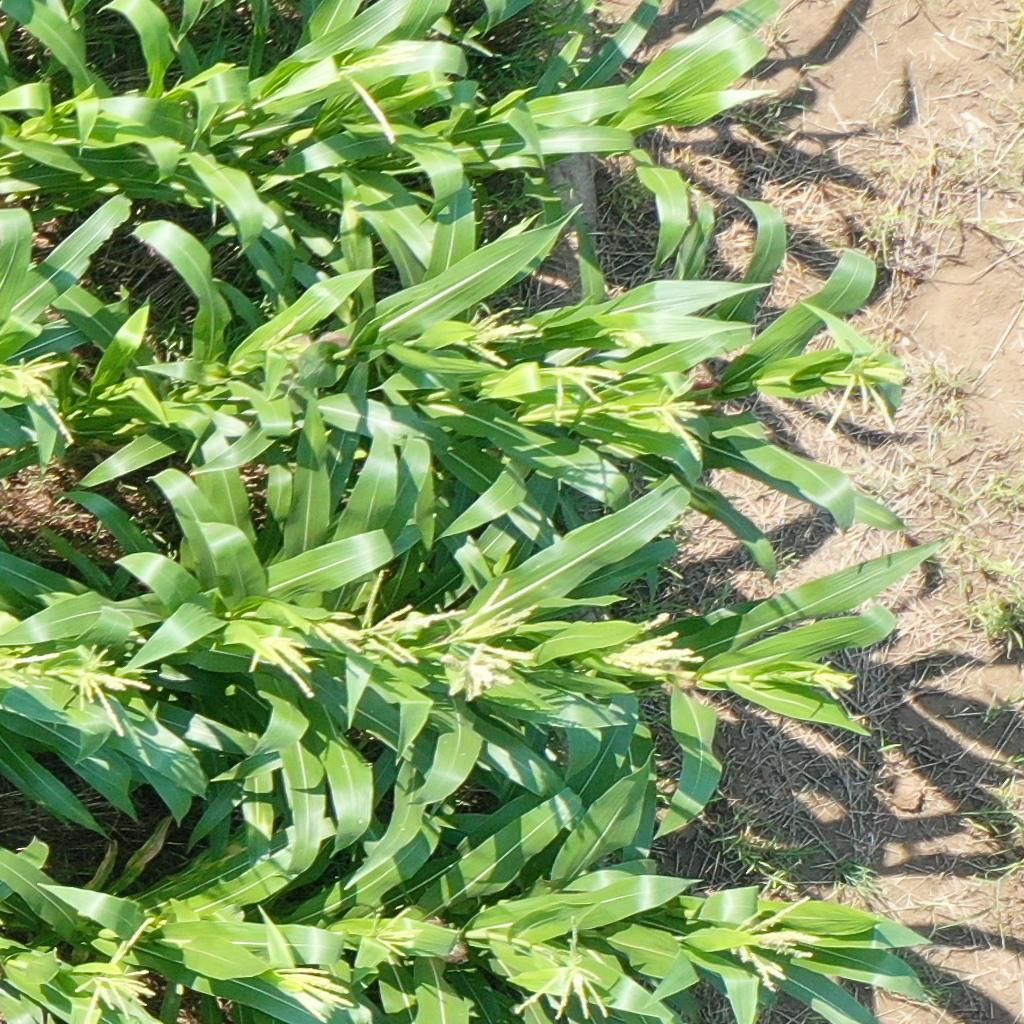Tassel: (326, 40, 434, 142), (353, 570, 464, 669), (48, 641, 154, 743), (512, 916, 609, 1024), (723, 889, 818, 999), (822, 329, 915, 438), (72, 915, 156, 1024), (441, 577, 541, 667), (594, 609, 705, 677), (1, 347, 78, 444), (541, 352, 635, 429), (648, 372, 714, 461), (246, 623, 316, 699), (459, 309, 541, 372), (441, 644, 516, 707), (272, 963, 352, 1022), (305, 606, 376, 657), (1, 645, 66, 699), (370, 902, 422, 959), (804, 657, 855, 702), (267, 323, 305, 361)
